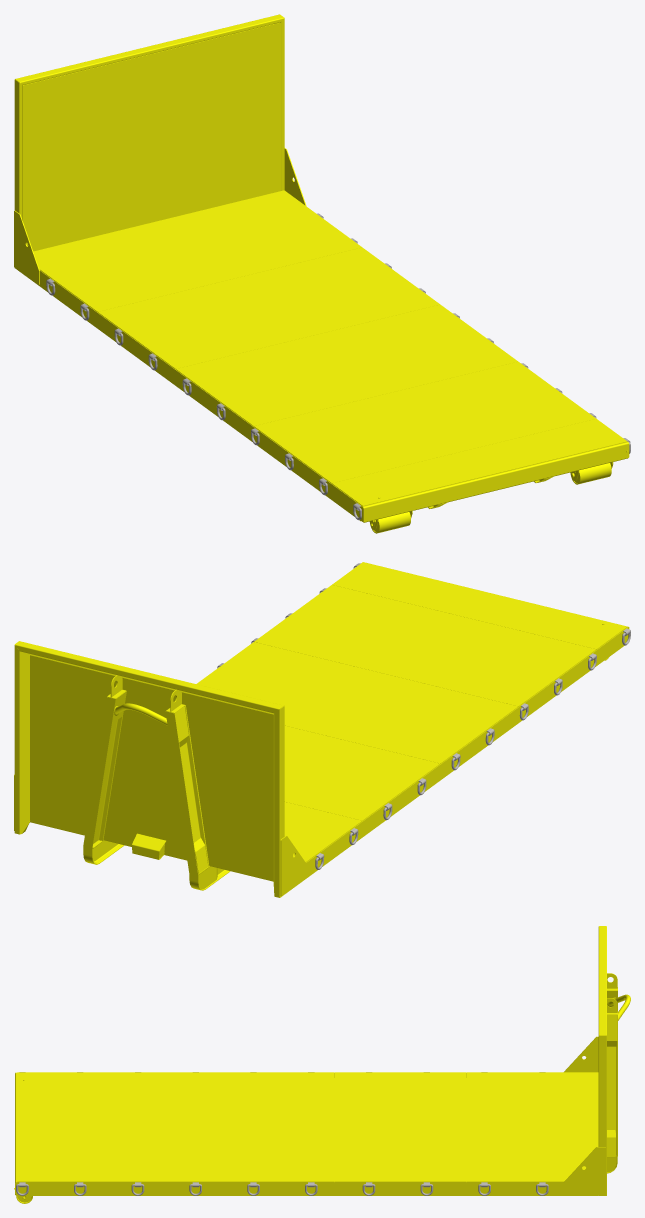
3 views of the same model, one above another, from view 1: azimuth 30°, elevation 25°; view 2: azimuth 150°, elevation 25°; view 3: azimuth 270°, elevation 25° (orthographic). The views are drawn at different scales.
Parts seen in each view (by area): view 1: Solid1 (×10), Solid2; view 2: Solid1 (×15), Solid2 (×2); view 3: Solid1 (×10), Solid2.
Boxes of the visible parts, left/top/right/bottom form: Solid1 (×10): left=14, top=14, right=629, bottom=522; Solid2: left=19, top=270, right=363, bottom=521; Solid1 (×15): left=14, top=562, right=627, bottom=897; Solid2 (×2): left=165, top=628, right=628, bottom=893; Solid1 (×10): left=17, top=926, right=617, bottom=1195; Solid2: left=15, top=1182, right=598, bottom=1195.
Size of the model in its own units: 2.52 by 1.82 by 5.81.
